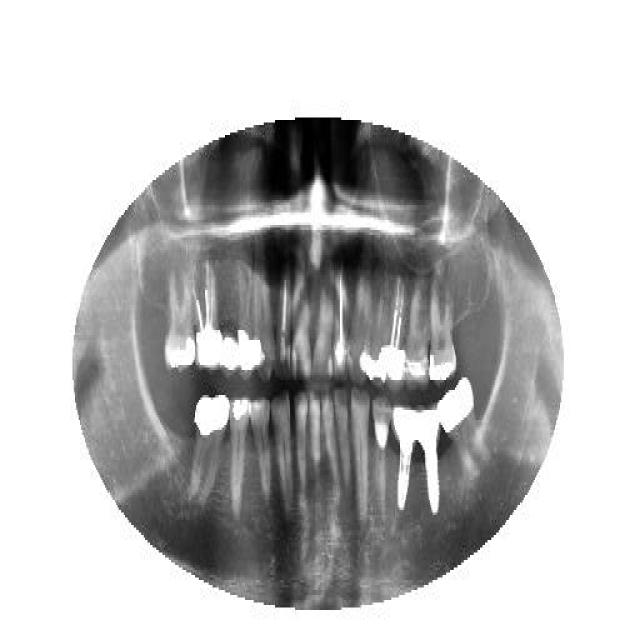Fillings: (438, 375, 492, 480), (188, 390, 234, 505), (164, 260, 196, 375), (428, 275, 458, 383), (255, 258, 276, 380), (230, 395, 250, 523), (239, 255, 256, 380), (368, 282, 387, 388), (221, 310, 239, 375)
Implant: (194, 255, 224, 373), (416, 402, 445, 518), (392, 402, 418, 512), (386, 272, 406, 390), (334, 268, 348, 380)
